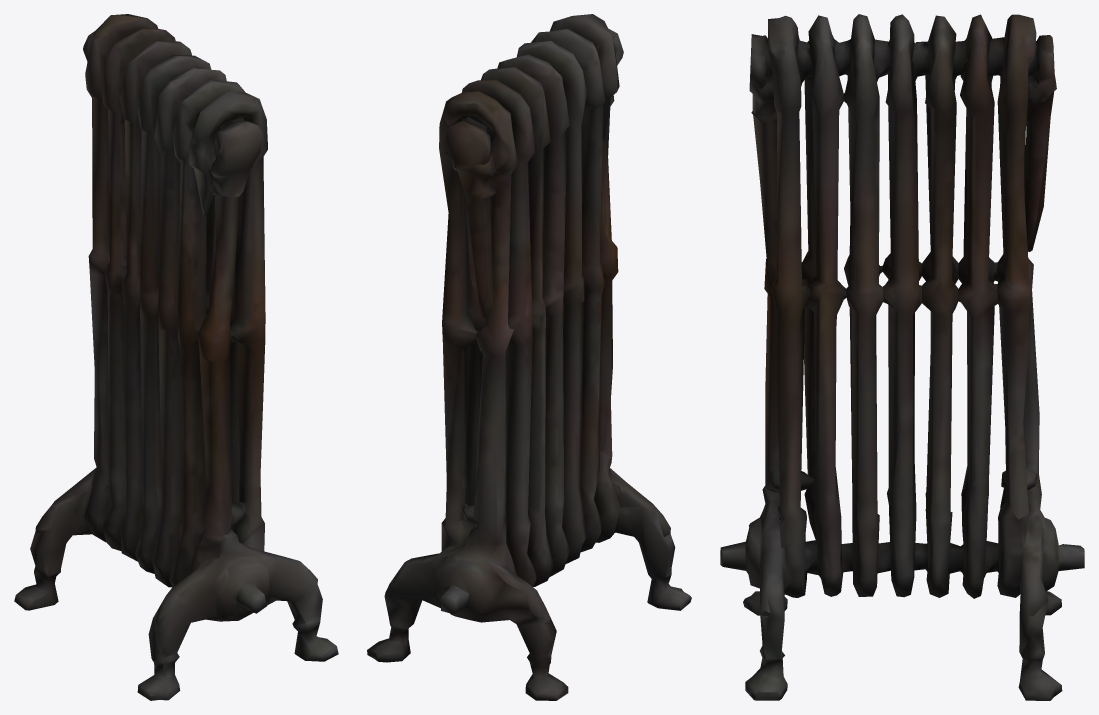
File: ornate-iron-radiator-v001.glb
The picture shows the model from 3 angles, left to right: view 1: azimuth 30°, elevation 25°; view 2: azimuth 150°, elevation 25°; view 3: azimuth 270°, elevation 25°; orthographic projection. The views are drawn at different scales.
Visible parts, largest first — view 1: ornate-iron-radiator; view 2: ornate-iron-radiator; view 3: ornate-iron-radiator.
Boxes of the visible parts, left/top/right/bottom form: ornate-iron-radiator: left=14, top=14, right=338, bottom=700; ornate-iron-radiator: left=367, top=14, right=691, bottom=700; ornate-iron-radiator: left=720, top=14, right=1084, bottom=700.
Size of the model in its own units: 0.3091 by 0.8933 by 0.4659.
Materials: 1 (1 with a texture image).
